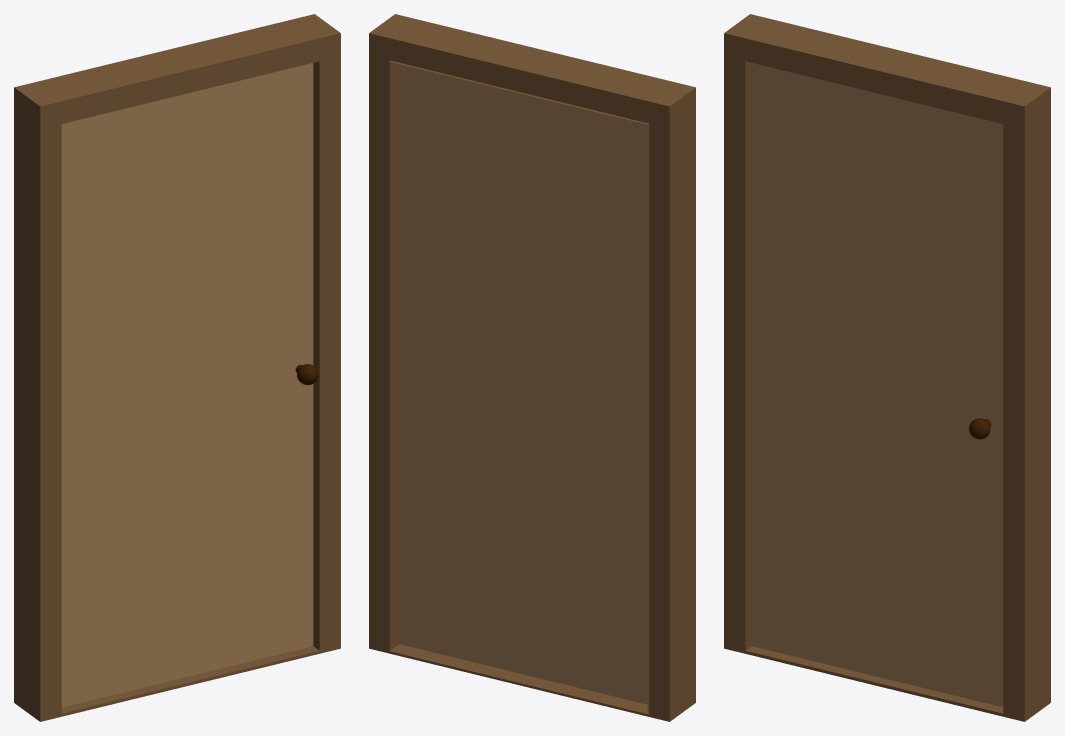
File: Door.fbx
3 views of the same model, side by side, from view 1: azimuth 30°, elevation 25°; view 2: azimuth 150°, elevation 25°; view 3: azimuth 330°, elevation 25° (orthographic).
Visible parts, largest first — view 1: Door Main; view 2: Door Main; view 3: Door Main.
Part boxes in pixels (left/top/right/bottom): Door Main: left=14, top=14, right=340, bottom=721; Door Main: left=369, top=14, right=695, bottom=721; Door Main: left=724, top=14, right=1050, bottom=721.
Bounding box in the file's own units: 6.65 × 13 × 1.46.
